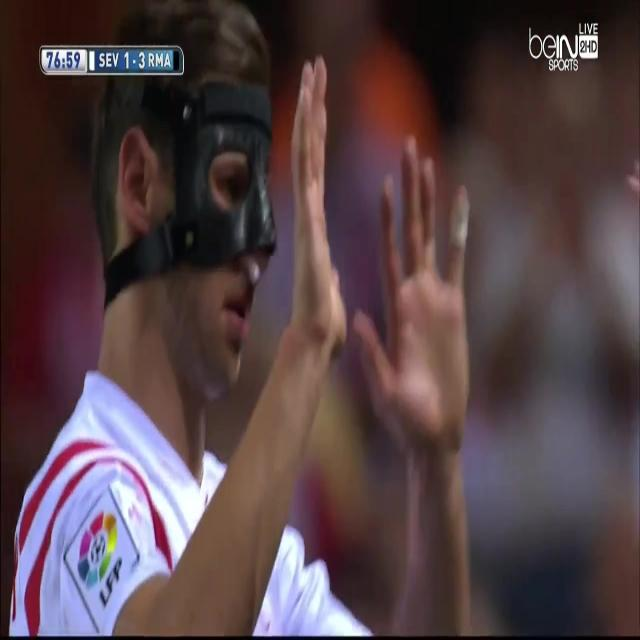Player: (5, 6, 481, 640)
